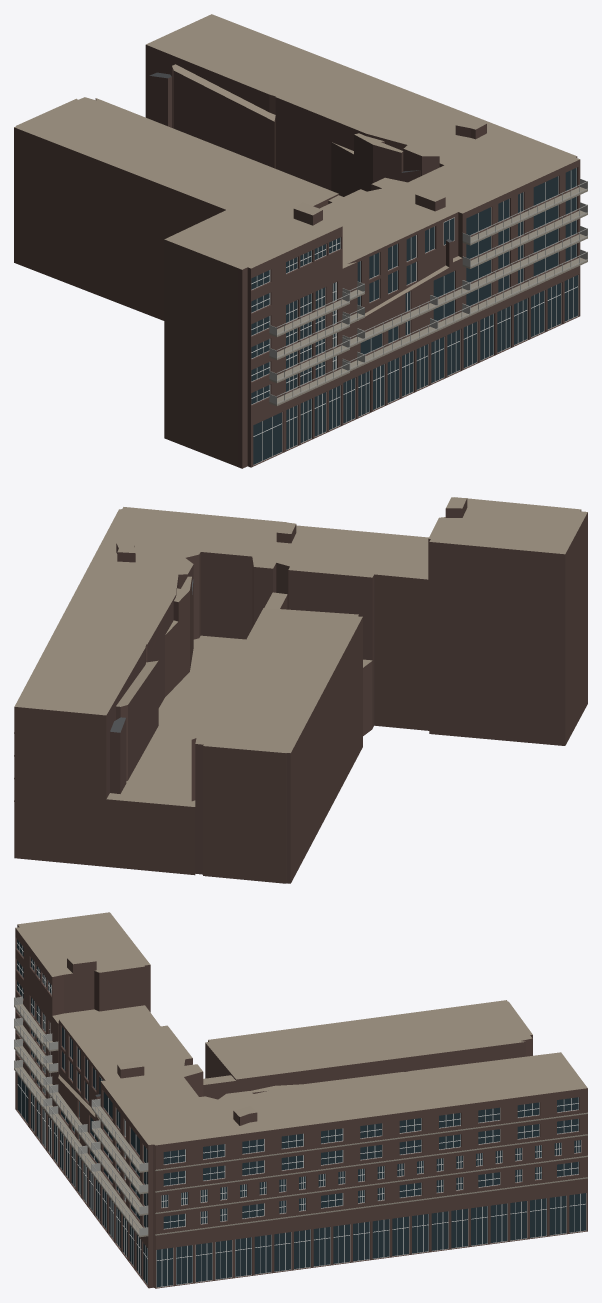
File: recipe-large-bos-en-lommerplein-2-097332.glb
3 views of the same model, one above another, from view 1: azimuth 30°, elevation 25°; view 2: azimuth 150°, elevation 25°; view 3: azimuth 270°, elevation 25° (orthographic). The views are drawn at different scales.
Parts seen in each view (by area): view 1: bos-en-lommerplein-2-097332; view 2: bos-en-lommerplein-2-097332; view 3: bos-en-lommerplein-2-097332.
Part boxes in pixels (<box>): bos-en-lommerplein-2-097332: <box>14,14,587,468</box>; bos-en-lommerplein-2-097332: <box>14,497,587,883</box>; bos-en-lommerplein-2-097332: <box>14,912,587,1288</box>.
Bounding box in the file's own units: 60.13 × 27.37 × 74.48.
